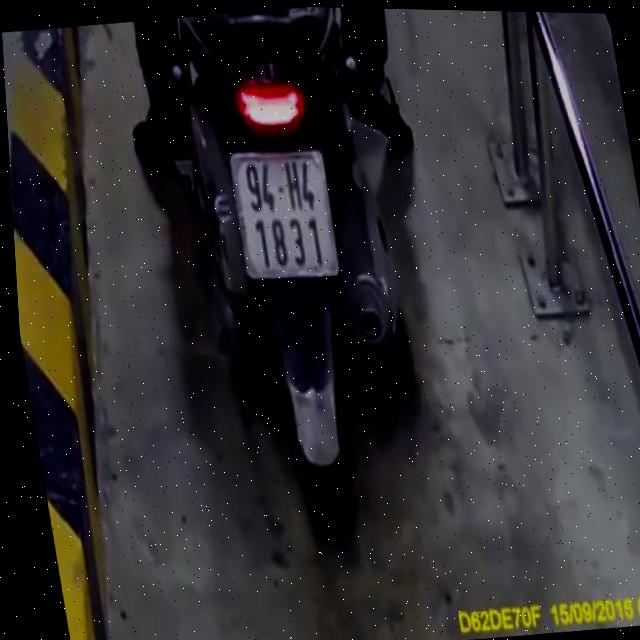motorcycle: (153, 3, 438, 515)
plate: (222, 136, 348, 291)
